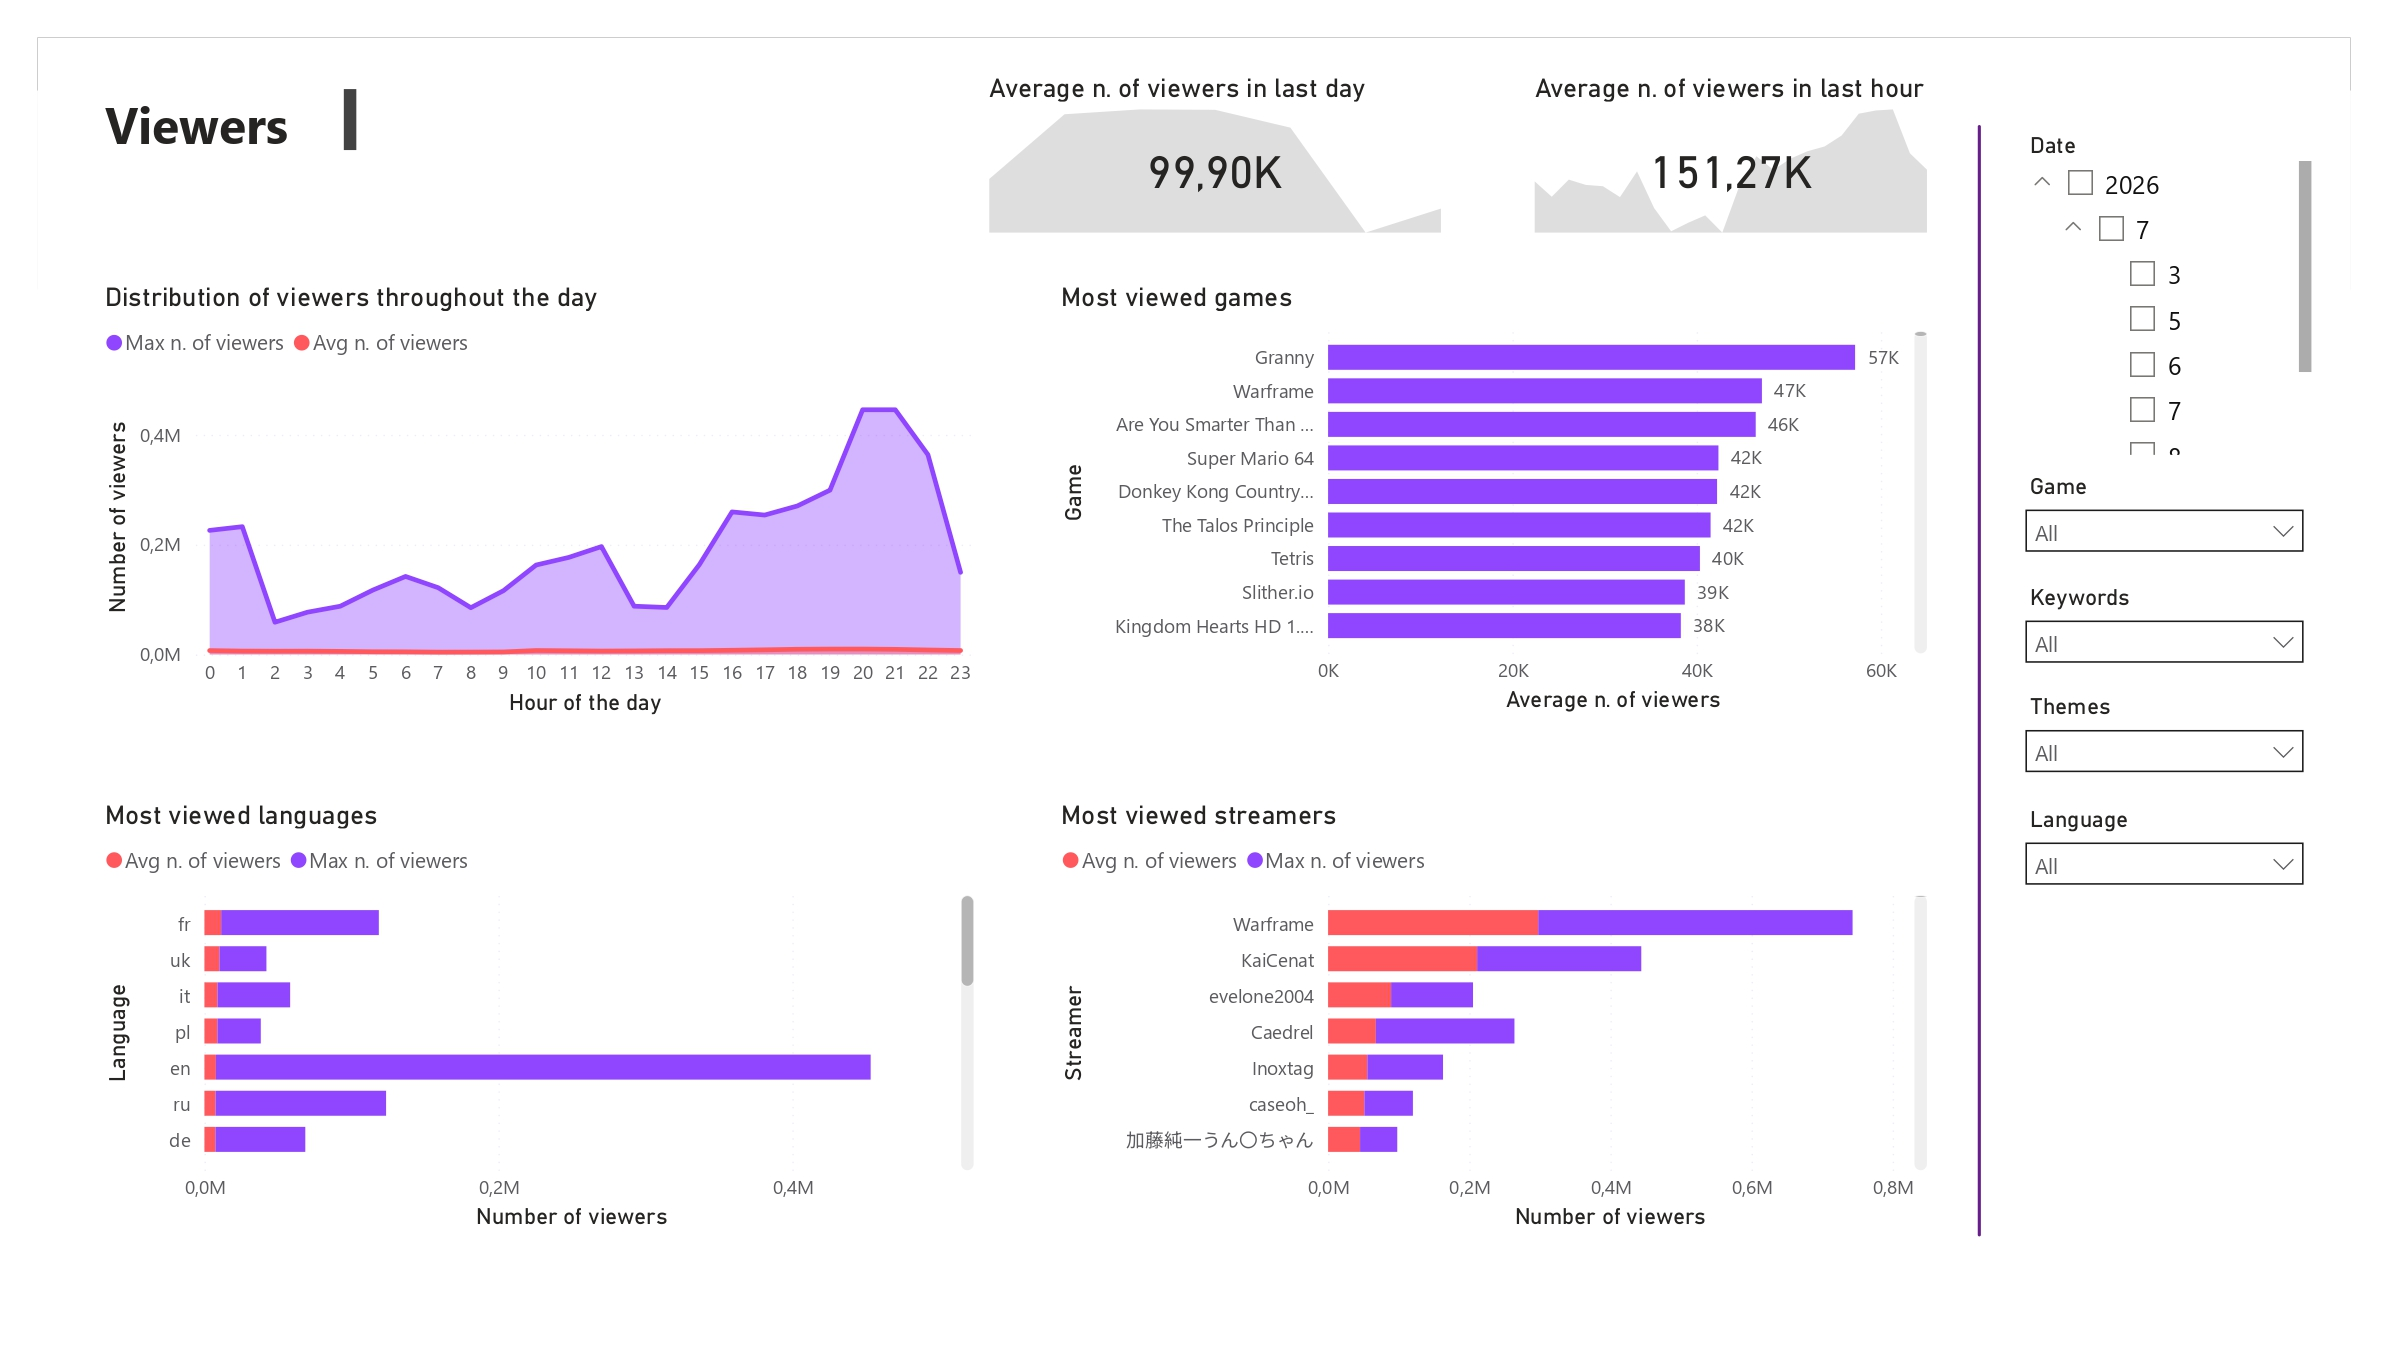

This screenshot's page, from the dashboard's own definition file:
{"tool":"powerbi","page":{"name":"Viewers","canvas":[1480,820],"ordinal":0},"visuals":[{"type":"areaChart","title":"Distribution of viewers throughout the day","fields":{"Category":["fact_stream_hourly.time_hour"],"Y":["Max(fact_stream_hourly.max_viewers)","fact_stream_hourly.avg_viewers"]},"box":[37.8,156.4,565.8,281.3],"z":0},{"type":"clusteredBarChart","title":"Most viewed games","fields":{"Category":["dim_game.game_name"],"Y":["fact_stream_hourly.avg_viewers"]},"box":[649.7,156.4,564.7,280.3],"z":1000},{"type":"slicer","fields":{"Values":["dim_game.game_name"]},"box":[1261.6,273.9,198.7,70.7],"z":2000},{"type":"slicer","fields":{"Values":["dim_date.date_year","dim_date.date_month","dim_date.date_day"]},"box":[1261.6,55.7,198.7,217.2],"z":3000},{"type":"slicer","fields":{"Values":["game_themes.themes"]},"box":[1261.6,415.3,198.7,71.7],"z":4000},{"type":"slicer","fields":{"Values":["game_keywords.keywords"]},"box":[1261.6,344.6,198.7,70.7],"z":5000},{"type":"shape","box":[1214.4,55.6,56.7,711.7],"z":6000},{"type":"kpi","title":"Average n. of viewers in last hour","fields":{"Indicator":["Avg(fact_stream_hourly.sum_viewers)"],"TrendLine":["fact_stream_hourly.time_hour"]},"box":[953,22,261,108],"z":7000},{"type":"kpi","title":"Average n. of viewers in last day","fields":{"Indicator":["Avg(fact_stream_hourly.sum_viewers)"],"TrendLine":["dim_date.date_day"]},"box":[604,22,299,108],"z":8000},{"type":"barChart","title":"Most viewed languages","fields":{"Category":["dim_language.language"],"Y":["fact_stream_hourly.avg_viewers","Max(fact_stream_hourly.max_viewers)"]},"box":[37.8,487,565.8,280.3],"z":9000},{"type":"barChart","title":"Most viewed streamers","fields":{"Category":["dim_streamer.user_name"],"Y":["fact_stream_hourly.avg_viewers","Max(fact_stream_hourly.max_viewers)"]},"box":[649.7,487,564.7,280.3],"z":10000},{"type":"textbox","box":[38,28,171,51],"z":11000},{"type":"slicer","fields":{"Values":["dim_language.language"]},"box":[1262,487,198,72],"z":12000}]}

Visuals, with their boxes on the page's 1480x820 design canvas (x1, y1, x2, y2). These are canvas units, not pixel positions in the 2388x1357 screenshot, which may show the page scaled, cropped or inside an application window:
"Distribution of viewers throughout the day" areaChart: [38,156,604,438]
"Most viewed games" clusteredBarChart: [650,156,1214,437]
slicer - dim_game.game_name: [1262,274,1460,345]
slicer - dim_date.date_year x dim_date.date_month: [1262,56,1460,273]
slicer - game_themes.themes: [1262,415,1460,487]
slicer - game_keywords.keywords: [1262,345,1460,415]
shape: [1214,56,1271,767]
"Average n. of viewers in last hour" kpi: [953,22,1214,130]
"Average n. of viewers in last day" kpi: [604,22,903,130]
"Most viewed languages" barChart: [38,487,604,767]
"Most viewed streamers" barChart: [650,487,1214,767]
textbox: [38,28,209,79]
slicer - dim_language.language: [1262,487,1460,559]
